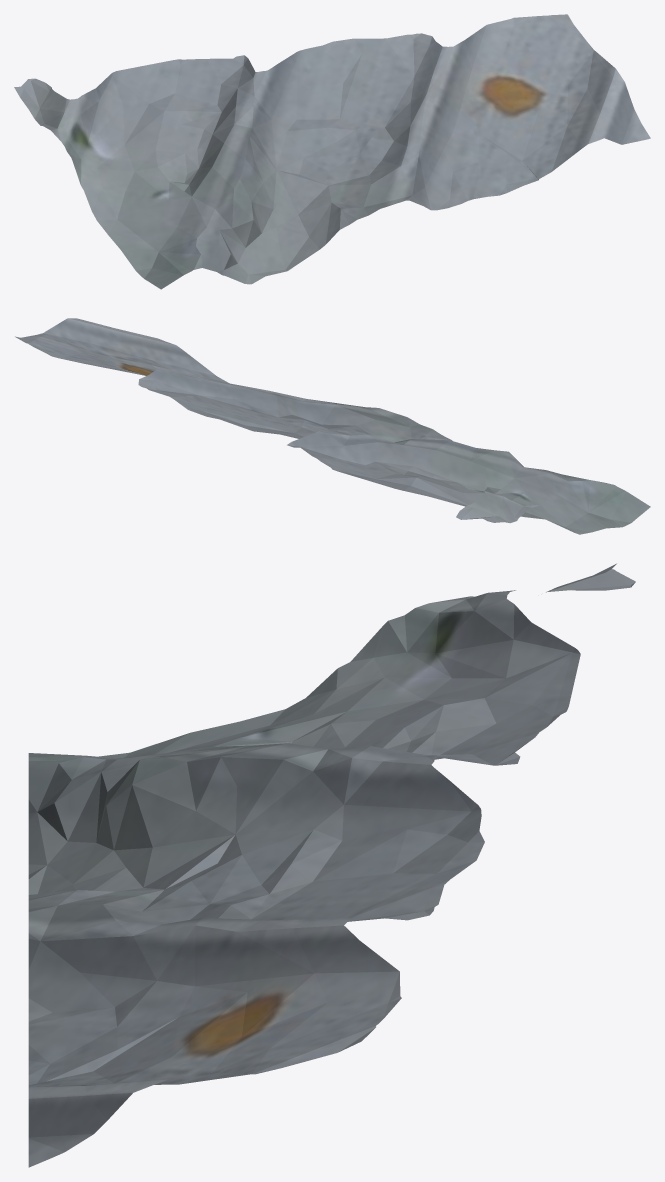
The picture shows the model from 3 angles, top to bottom: view 1: azimuth 30°, elevation 25°; view 2: azimuth 150°, elevation 25°; view 3: azimuth 270°, elevation 25°; orthographic projection. The views are drawn at different scales.
Size of the model in its own units: 0.8373 by 0.1824 by 0.4496.
Materials: 1 (1 with a texture image).
